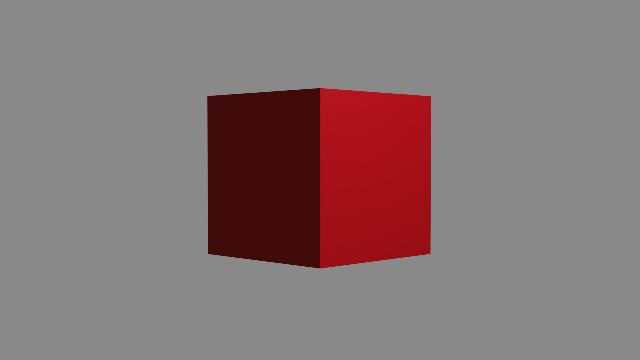Cube: (200, 81, 440, 276)
